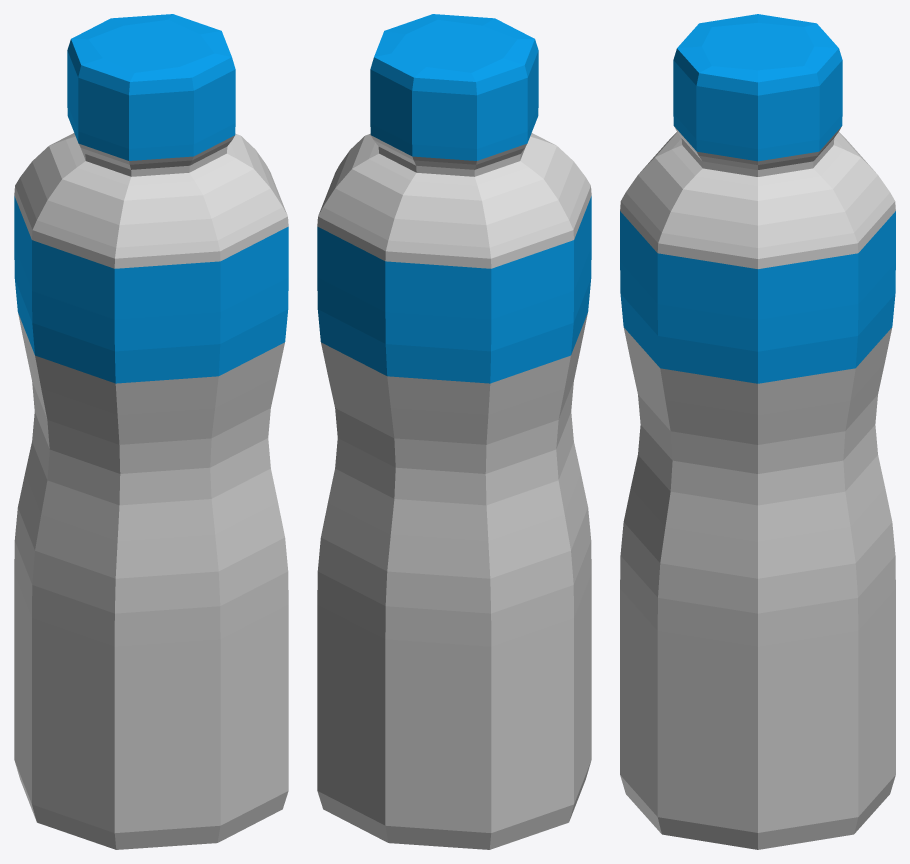
File: bottle.fbx
The picture shows the model from 3 angles, left to right: view 1: azimuth 30°, elevation 25°; view 2: azimuth 150°, elevation 25°; view 3: azimuth 270°, elevation 25°; orthographic projection.
Visible parts, largest first — view 1: Cube; view 2: Cube; view 3: Cube.
Part boxes in pixels (x1,y1,x2,y2): Cube: [14, 14, 288, 849]; Cube: [317, 14, 591, 849]; Cube: [620, 14, 895, 849].
Size of the model in its own units: 183 by 559 by 183.
